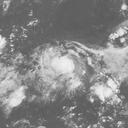cyclone: (34, 44, 83, 91)
